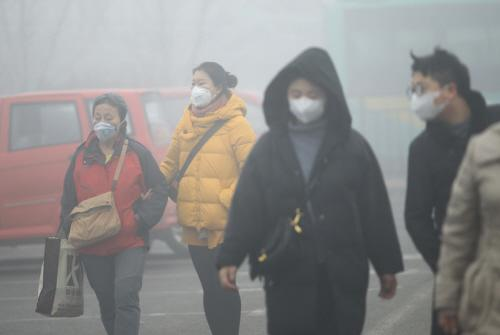yes_mask: (406, 48, 474, 124), (280, 44, 330, 126), (186, 62, 239, 111), (87, 91, 129, 149)
